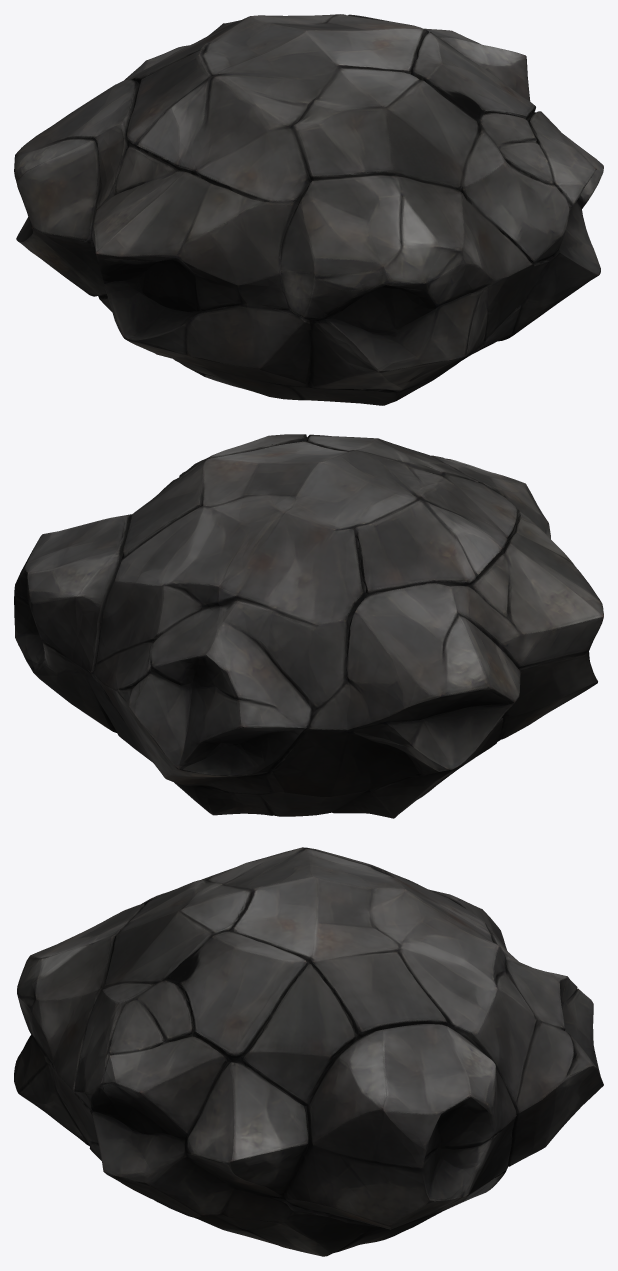
The model's file is small-asteroid1.glb.
3 views of the same model, one above another, from view 1: azimuth 30°, elevation 25°; view 2: azimuth 150°, elevation 25°; view 3: azimuth 270°, elevation 25° (orthographic). The views are drawn at different scales.
Parts seen in each view (by area): view 1: world; view 2: world; view 3: world.
Boxes of the visible parts, x1=… form: world: x1=14, y1=14, x2=603, y2=405; world: x1=14, y1=434, x2=603, y2=818; world: x1=14, y1=847, x2=603, y2=1256.
Bounding box in the file's own units: 0.9867 × 0.6313 × 0.9975.
1 material, 1 textured.
